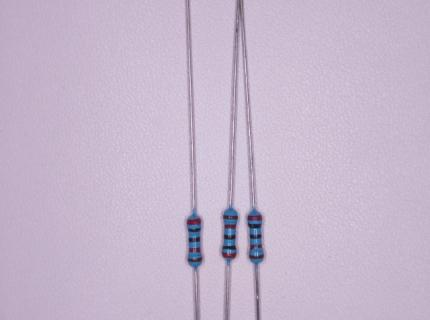Black band: (248, 223, 262, 229), (188, 227, 201, 233), (189, 236, 201, 242), (222, 245, 236, 250), (224, 234, 235, 240), (250, 234, 261, 239)
Brown band: (188, 257, 203, 263), (249, 253, 264, 259), (223, 215, 239, 219)
Red band: (187, 218, 202, 225), (222, 252, 237, 259), (247, 215, 263, 221), (189, 247, 200, 253), (250, 244, 262, 249), (225, 224, 236, 229)
